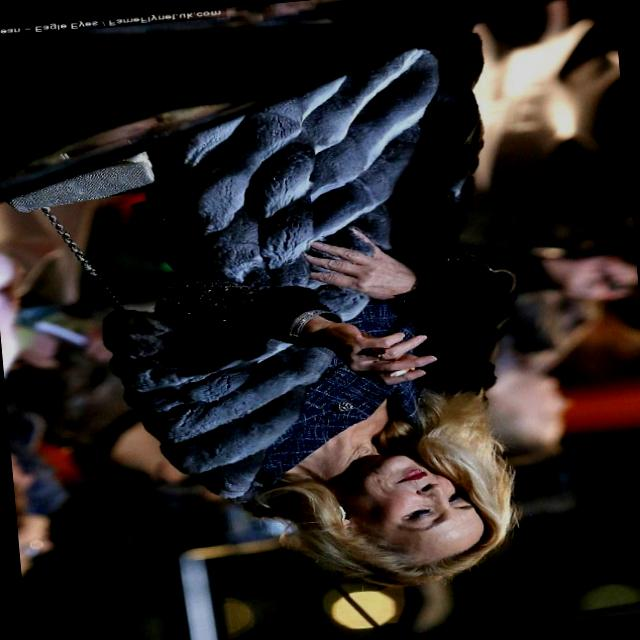smoke: (353, 358, 441, 388)
